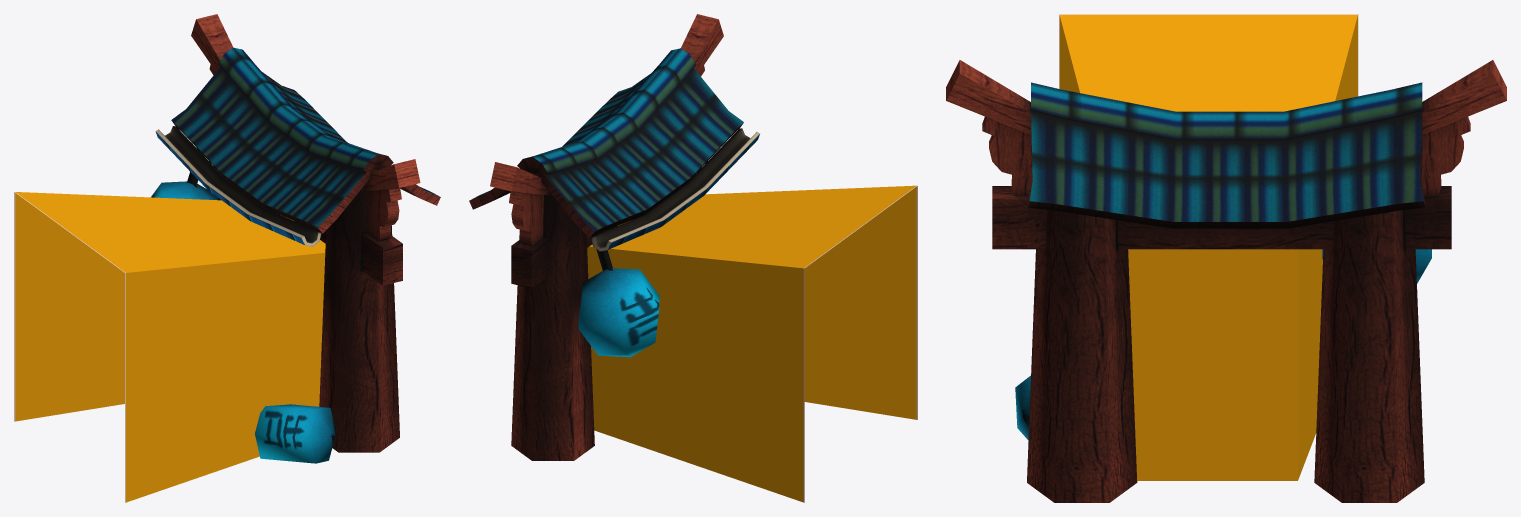
File: EXIT_GATE.fbx
The picture shows the model from 3 angles, left to right: view 1: azimuth 30°, elevation 25°; view 2: azimuth 150°, elevation 25°; view 3: azimuth 270°, elevation 25°; orthographic projection. The views are drawn at different scales.
Parts seen in each view (by area): view 1: polySurface342; view 2: polySurface342; view 3: polySurface342.
Boxes of the visible parts, bbox=[...] form: polySurface342: bbox=[14, 14, 440, 502]; polySurface342: bbox=[469, 14, 917, 502]; polySurface342: bbox=[946, 14, 1506, 502].
Size of the model in its own units: 4.49 by 4.42 by 5.29.
